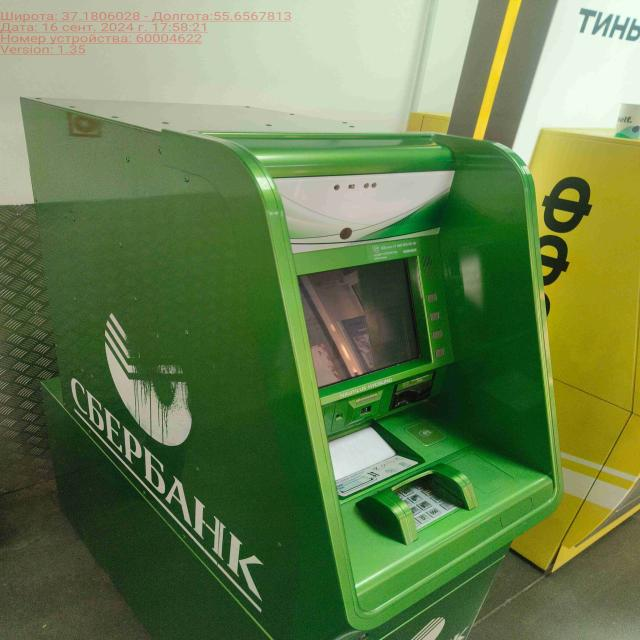bank: (26, 97, 554, 640)
